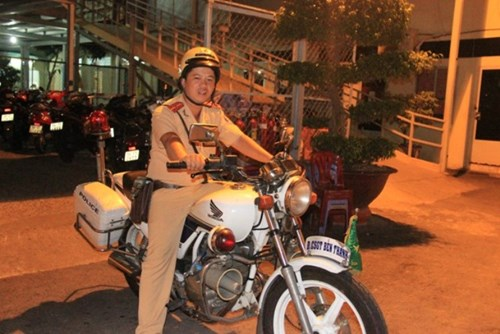police: (66, 36, 398, 334)
